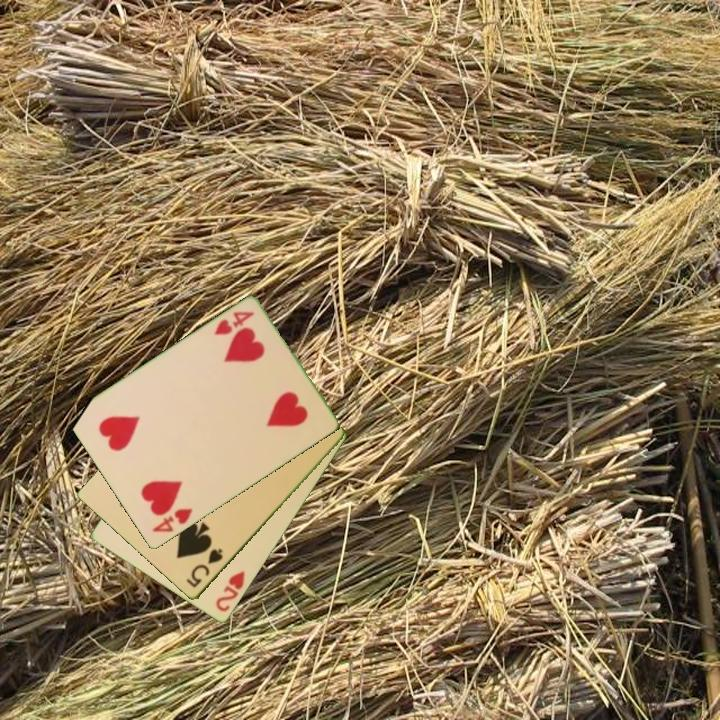2h: (212, 567, 248, 615)
4h: (149, 505, 196, 536), (211, 308, 257, 339)
5s: (183, 545, 226, 591)
